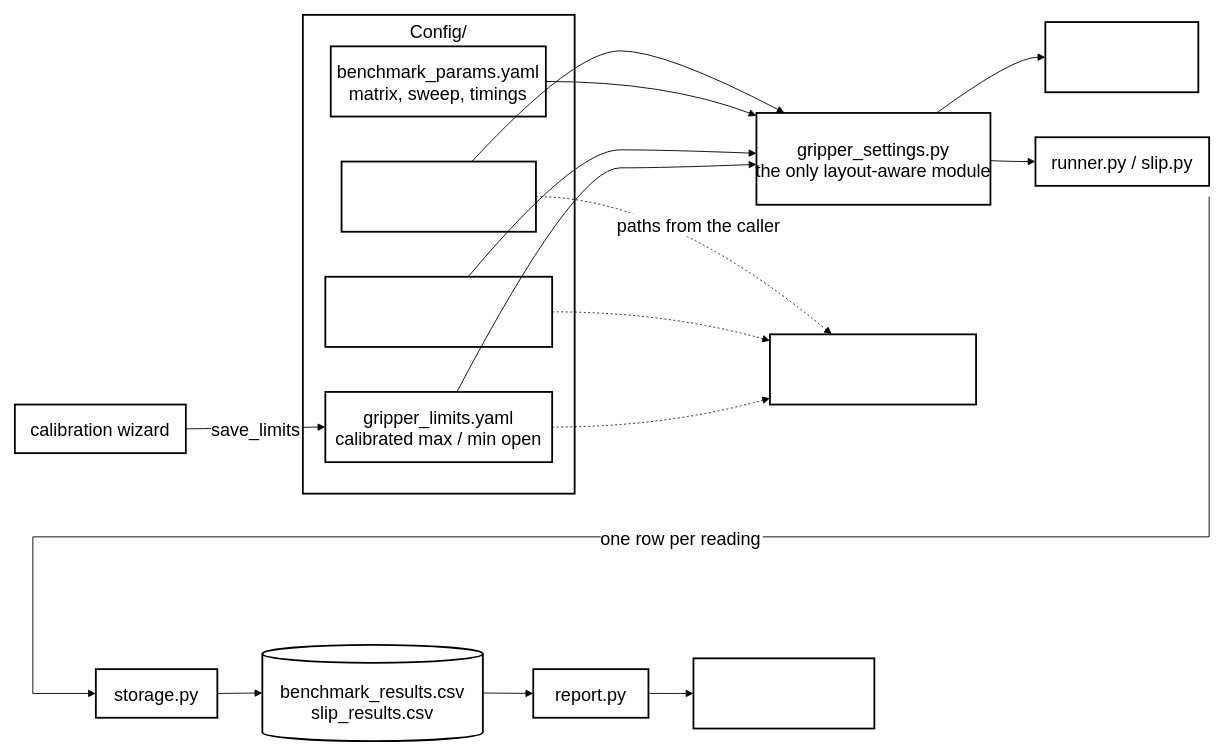
The diagram is 1224 pixels wide and 756 high, and some of its shapes have lost their labels. The shapes that lost their labels are listed below. From the top down, each one's centre as x and y in pixels, then its label:
At (x=1121, y=57): "control GUI benchmark GUI".
At (x=438, y=196): "gripper_config.yaml port, currents, tuning".
At (x=438, y=311): "xm430_control_table.yaml registers + unit scales".
At (x=872, y=369): "GripperAPI.from_config your own script".
At (x=783, y=693): "benchmark_report/ 2 tables + 8 figures".
